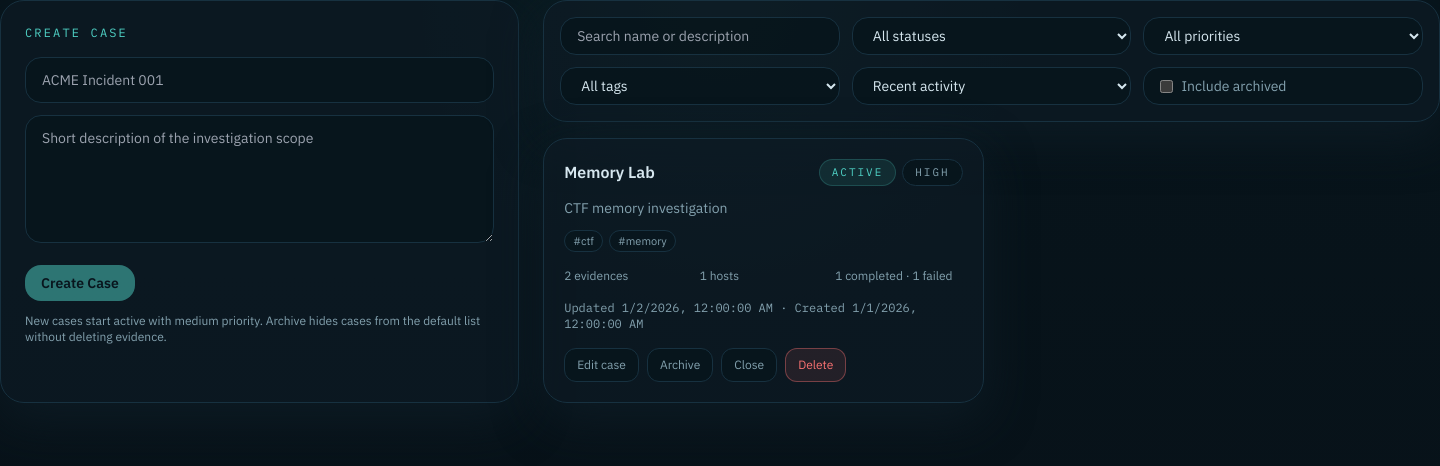
Scenario: Cases page › include archived shows archived cases
Expected: the heading "Memory Lab" is shown, top-left (564, 160), bottom-right (655, 184)
Expected: the text "Archived Ransomware" is not shown
Click the checkbox labelled "Include archived" at {"x": 1167, "y": 86}, box top-left (1160, 80), bottom-right (1173, 92)
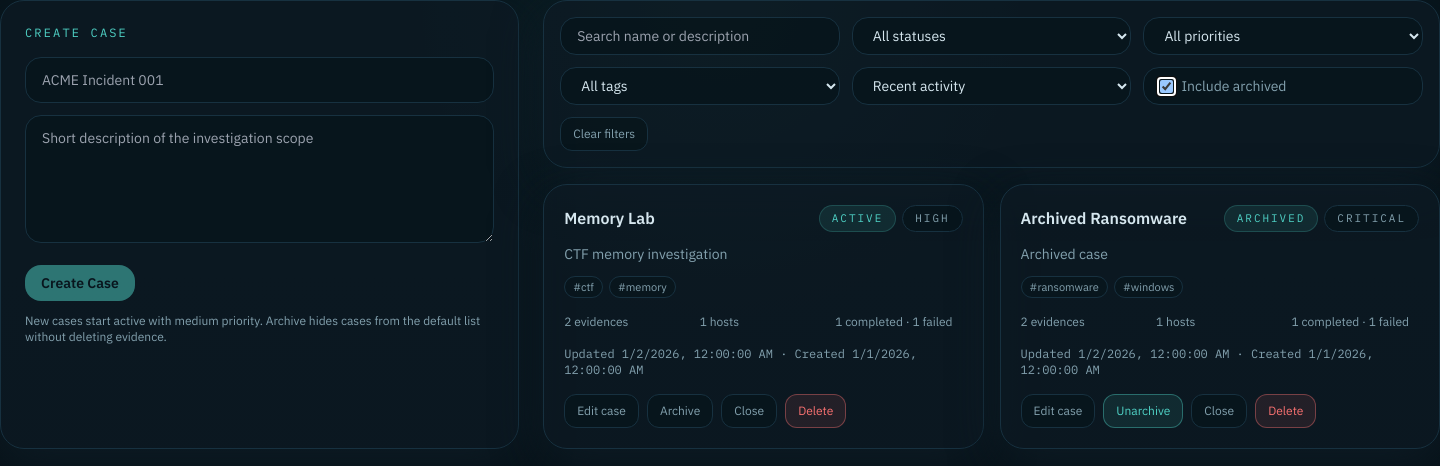
Expected: the heading "Archived Ransomware" is shown, top-left (1021, 206), bottom-right (1187, 230)
